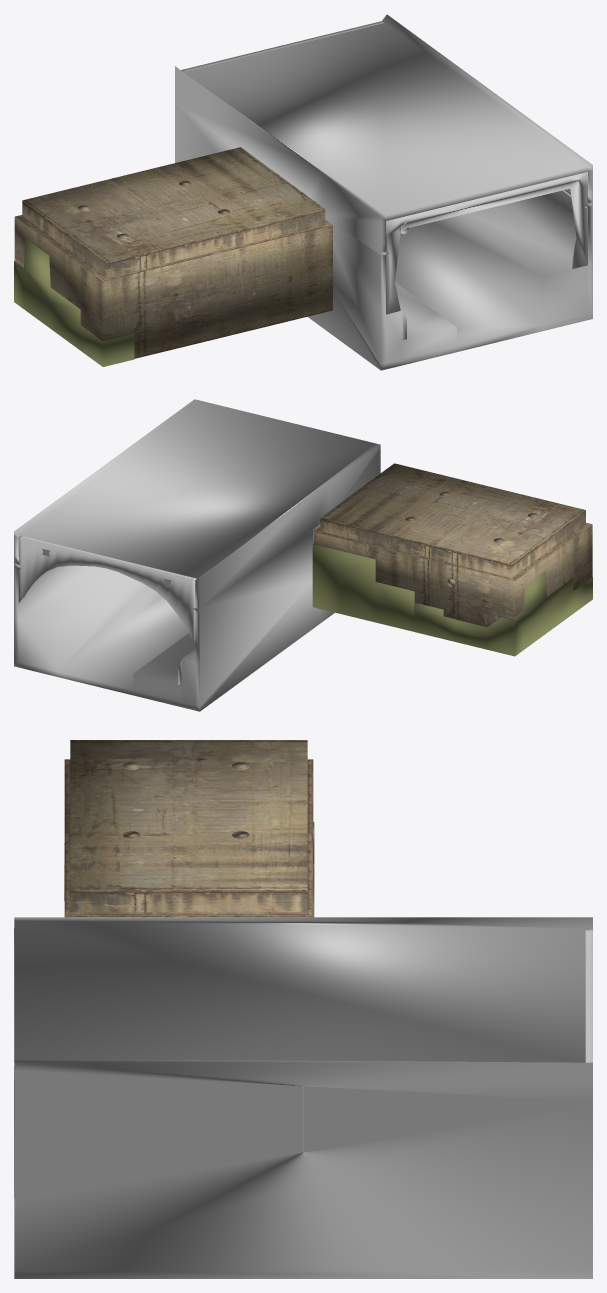
Rendered from Sectione_Straight_WithRoom_lowpoly.fbx.
3 renders of one model, top to bottom at view 1: azimuth 30°, elevation 25°; view 2: azimuth 150°, elevation 25°; view 3: azimuth 270°, elevation 25°, orthographic. The views are drawn at different scales.
Parts seen in each view (by area): view 1: SectionE_straight, roomA, machines, Arch; view 2: SectionE_straight, roomA, machines, Arch; view 3: SectionE_straight, roomA, Arch.
Boxes of the visible parts, <box> form: SectionE_straight: <box>175,14,592,370</box>; roomA: <box>14,147,332,358</box>; machines: <box>14,238,134,366</box>; Arch: <box>181,21,383,71</box>; SectionE_straight: <box>14,399,380,711</box>; roomA: <box>313,463,592,626</box>; machines: <box>312,544,592,656</box>; Arch: <box>18,535,196,646</box>; SectionE_straight: <box>14,917,592,1278</box>; roomA: <box>64,740,313,917</box>; Arch: <box>585,928,592,1062</box>.
Bounding box in the file's own units: 658 × 208 × 497.
